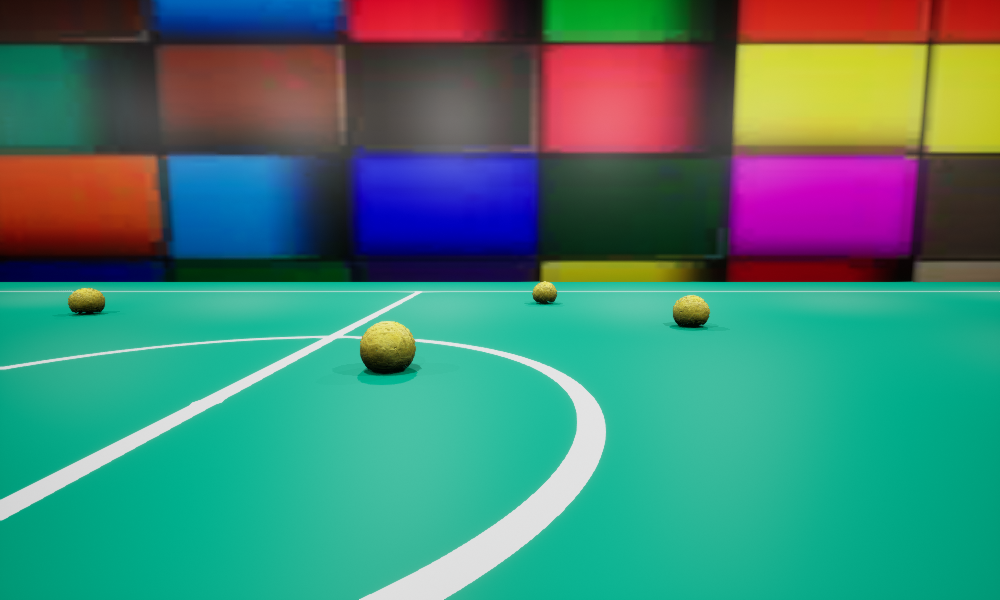b: (360, 321, 415, 372), (673, 295, 709, 327), (68, 288, 104, 314), (532, 281, 556, 303)
